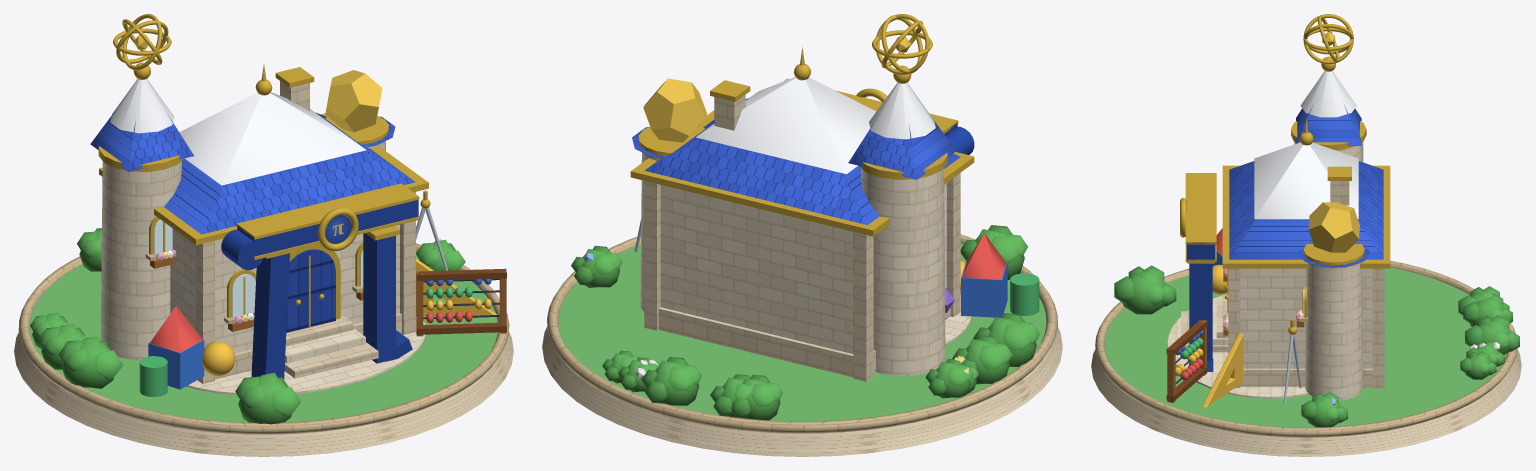
Rendered from bldg-math.glb.
The picture shows the model from 3 angles, left to right: view 1: azimuth 30°, elevation 25°; view 2: azimuth 150°, elevation 25°; view 3: azimuth 270°, elevation 25°; orthographic projection. The views are drawn at different scales.
Parts seen in each view (by area): view 1: bldg-math, snow (×2), spin; view 2: bldg-math, snow (×2), spin; view 3: bldg-math, snow (×2), spin.
Part boxes in pixels (left/top/right/bottom): bldg-math: left=14, top=62, right=513, bottom=456; snow (×2): left=110, top=79, right=366, bottom=185; spin: left=113, top=14, right=171, bottom=70; bldg-math: left=542, top=47, right=1062, bottom=456; snow (×2): left=695, top=77, right=935, bottom=174; spin: left=872, top=14, right=932, bottom=74; bldg-math: left=1091, top=56, right=1521, bottom=456; snow (×2): left=1254, top=71, right=1358, bottom=219; spin: left=1303, top=14, right=1353, bottom=64.
Size of the model in its own units: 7.76 by 6.01 by 7.76.
27 materials, 6 textured.
